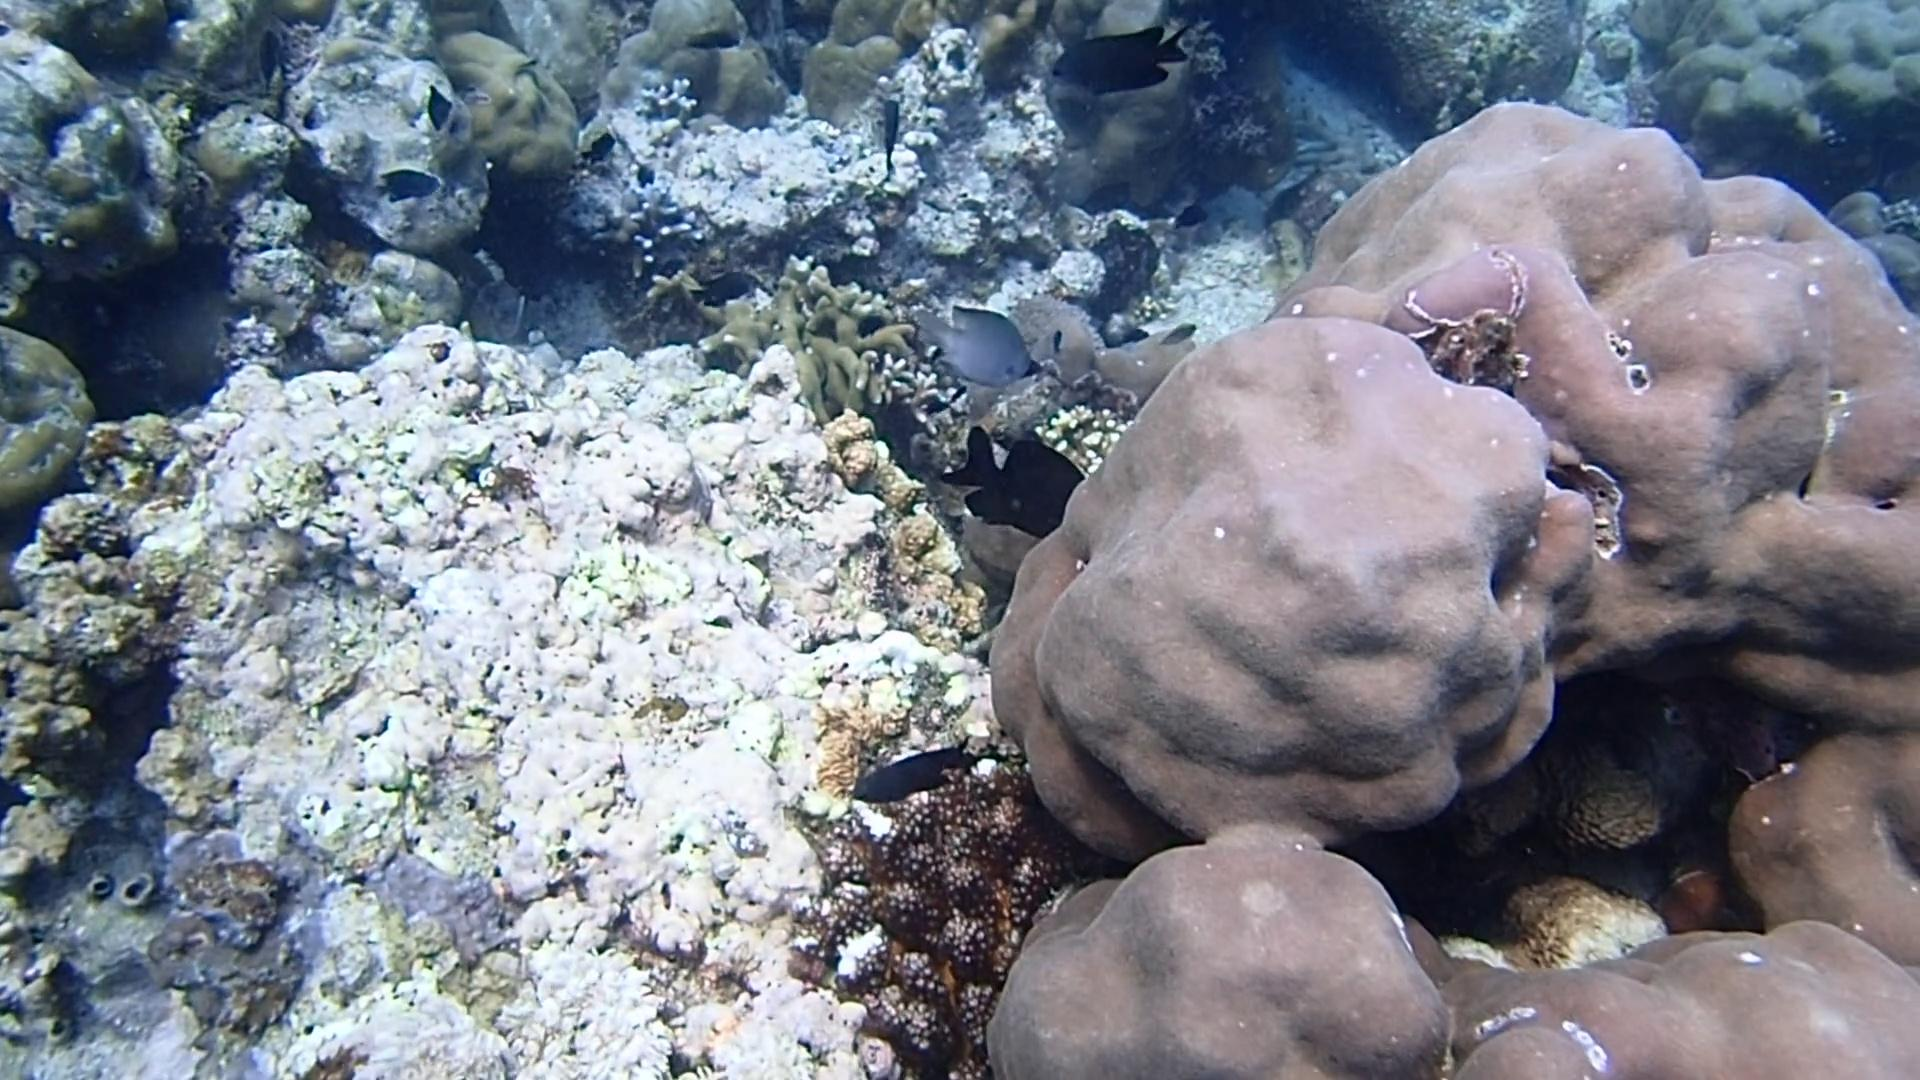Dark Fish: (927, 414, 1106, 547), (1043, 18, 1197, 104), (845, 731, 978, 812), (371, 161, 442, 208), (876, 91, 911, 185), (688, 265, 754, 315), (252, 17, 285, 100), (422, 78, 459, 137), (578, 129, 617, 169)
Light Fish - Dark Fin: (909, 297, 1058, 398)
